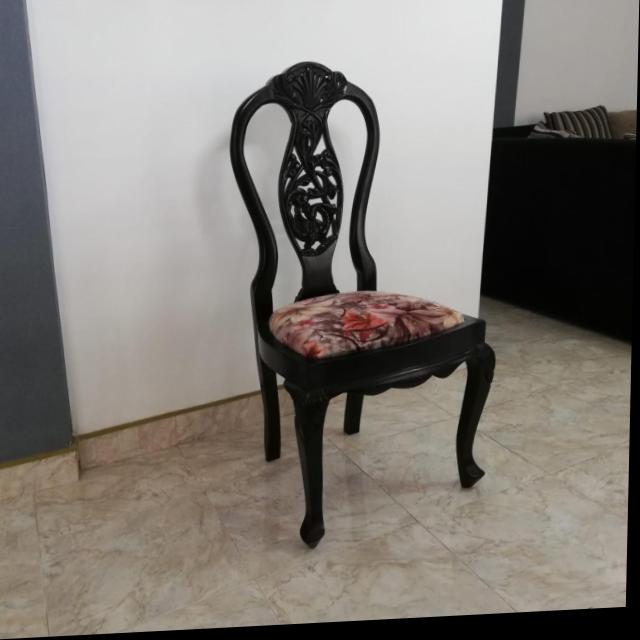Chair: (225, 56, 504, 550)
